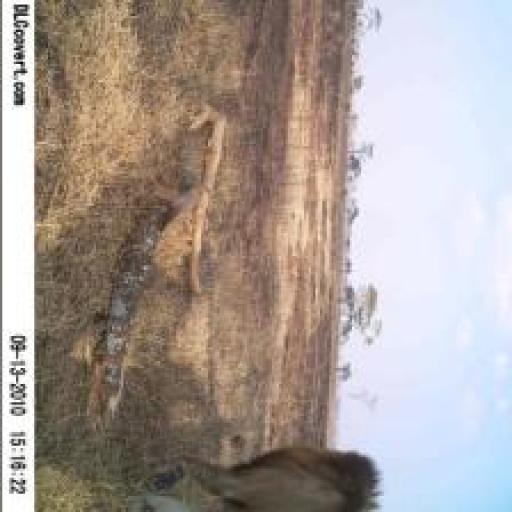lion: (94, 402, 411, 512)
